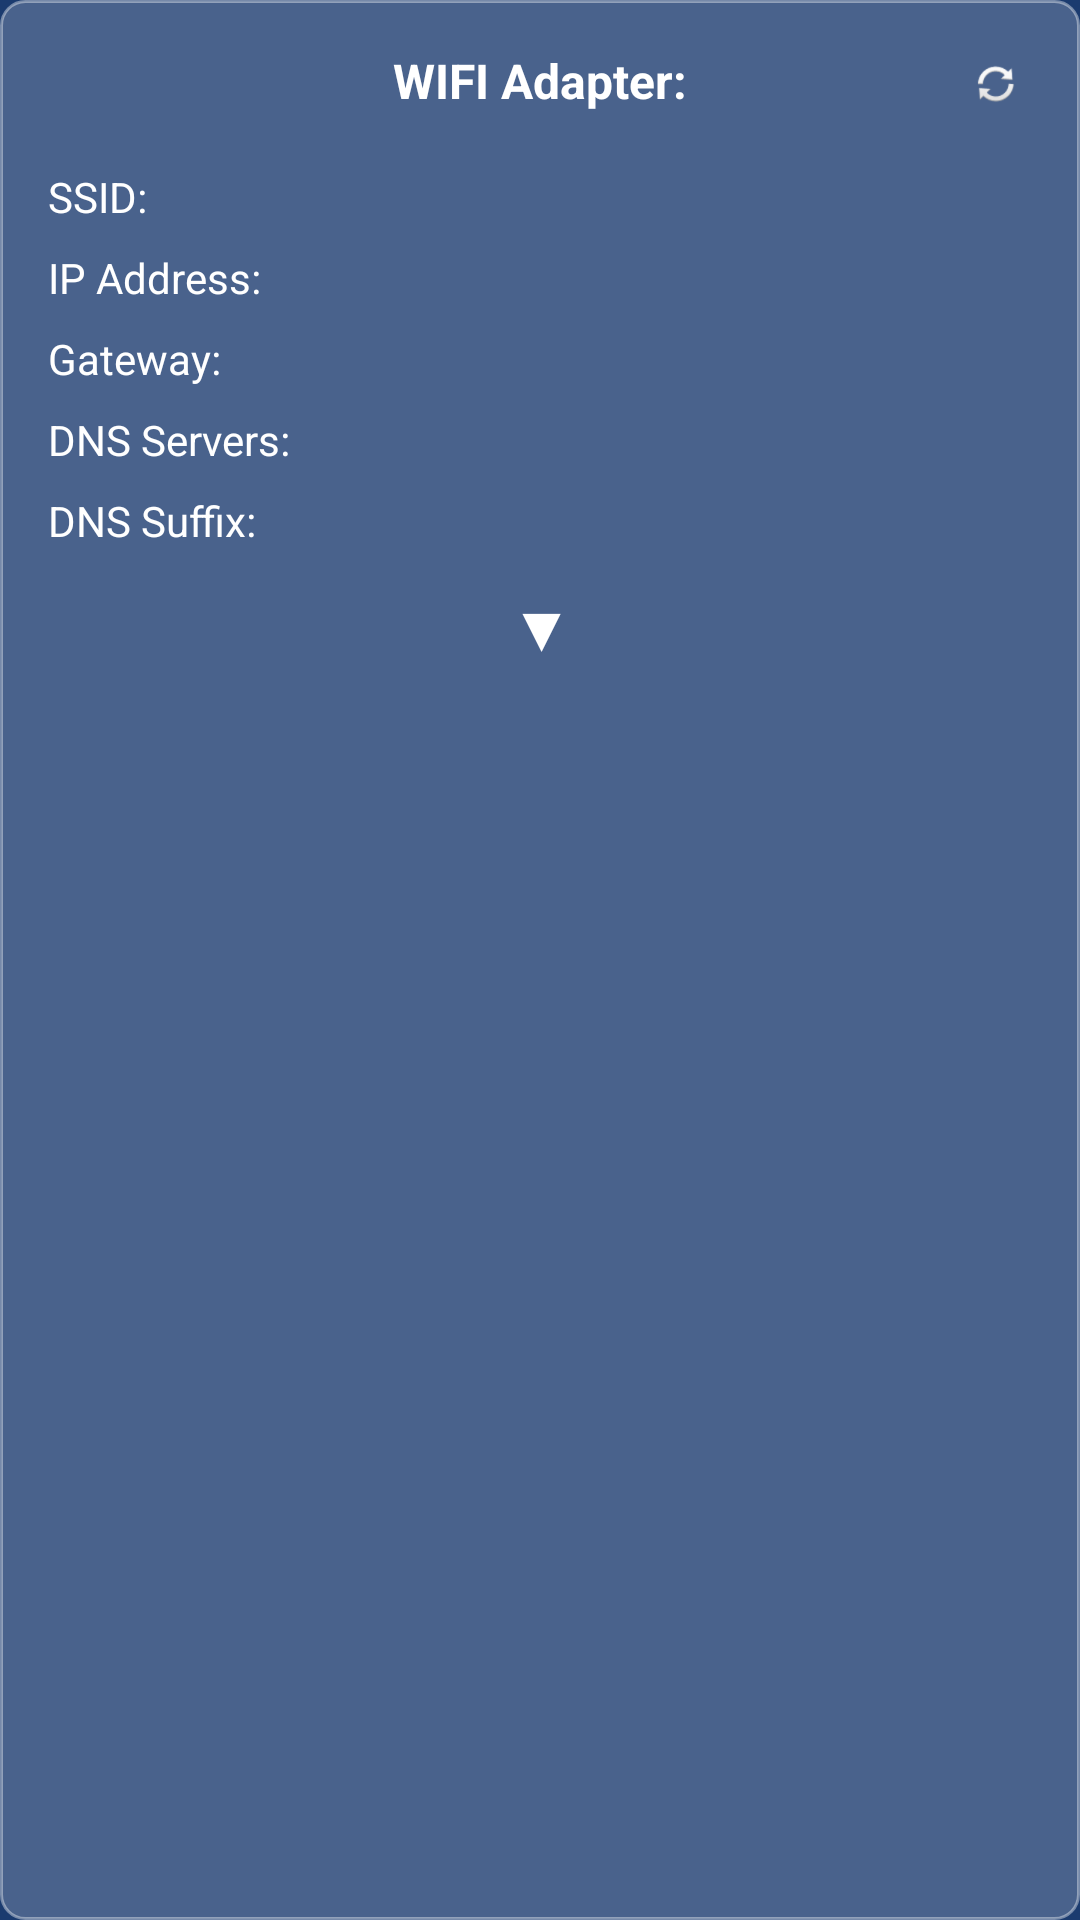

Point at icon controls on the screen. Image size 1080x1920, points as point (x, y).
popup sync: point (996, 84)
